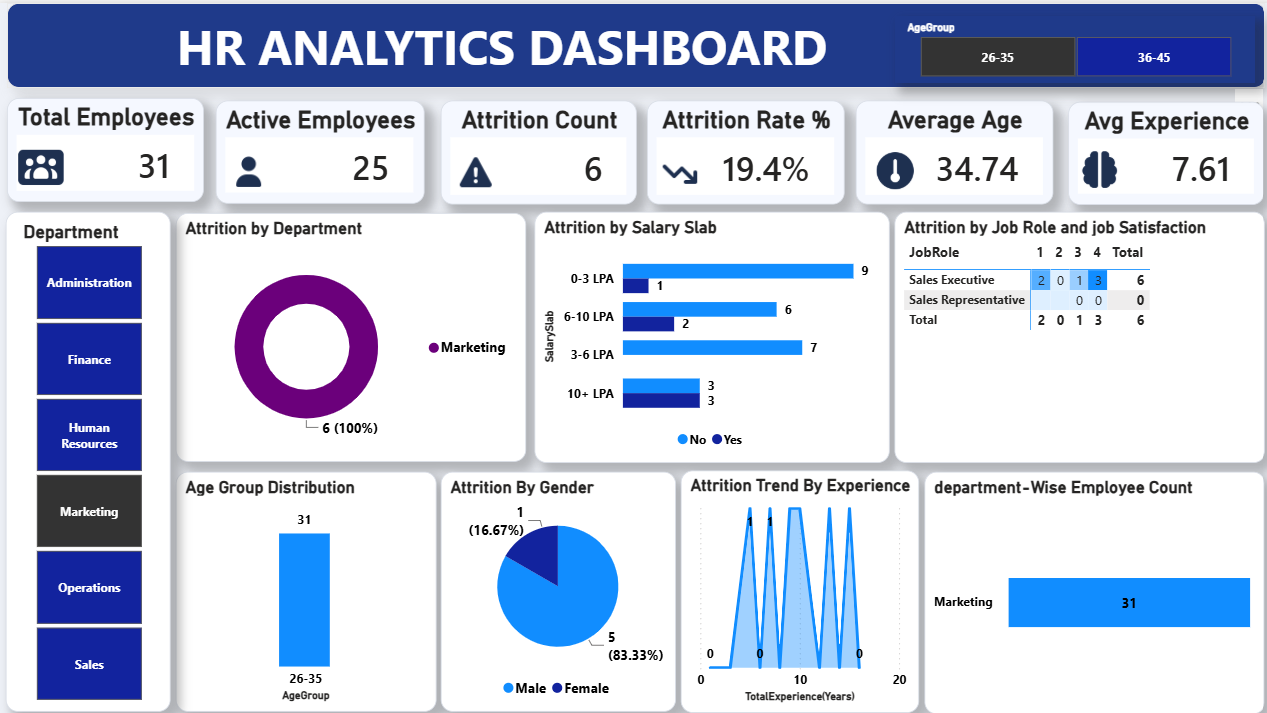

What the dashboard file says about the page in this screenshot:
{"tool":"powerbi","page":{"name":"Page 1","canvas":[1280,720],"ordinal":0},"visuals":[{"type":"textbox","box":[10,0,1259,85],"z":0},{"type":"cardVisual","title":"Total Employees","fields":{"Data":["CountNonNull(HR_Analytics-4.EmpID)"]},"box":[10,95,197,104],"z":1000},{"type":"cardVisual","title":"Active Employees","fields":{"Data":["CountNonNull(HR_Analytics-4.EmployeeCount)"]},"box":[218.2,97.4,208.6,102.9],"z":2000},{"type":"cardVisual","title":"Attrition Count","fields":{"Data":["Sum(HR_Analytics-4.AttritionCount)"]},"box":[443.2,97.4,196.2,104.3],"z":3000},{"type":"cardVisual","title":"Attrition Rate %","fields":{"Data":["HR_Analytics-4.Attrition Rate %"]},"box":[650.4,97.4,197.6,104.3],"z":4000},{"type":"cardVisual","title":"Average Age","fields":{"Data":["Avg(HR_Analytics-4.Age)"]},"box":[859,97.4,197.6,104.3],"z":5000},{"type":"cardVisual","title":"Avg Experience","fields":{"Data":["Avg(HR_Analytics-4.YearsatCompany)"]},"box":[1071.7,98.8,196.2,102.9],"z":6000},{"type":"donutChart","title":"Attrition by Department","fields":{"Category":["HR_Analytics-4.Department"],"Y":["Sum(HR_Analytics-4.AttritionCount)"]},"box":[179,210,350,249],"z":7000},{"type":"clusteredBarChart","title":"Attrition by Salary Slab","fields":{"Category":["HR_Analytics-4.SalarySlab"],"Y":["CountNonNull(HR_Analytics-4.EmpID)"],"Series":["HR_Analytics-4.Attrition"]},"box":[537,209,355,251],"z":8000},{"type":"pivotTable","title":"Attrition by Job Role and job Satisfaction","fields":{"Rows":["HR_Analytics-4.JobRole"],"Values":["Sum(HR_Analytics-4.AttritionCount)"],"Columns":["HR_Analytics-4.JobSatisfaction"]},"box":[898,209,371,251],"z":9000},{"type":"columnChart","title":"Age Group Distribution","fields":{"Y":["Sum(HR_Analytics-4.EmployeeCount)"],"Category":["HR_Analytics-4.AgeGroup"]},"box":[179,469,261,240],"z":10000},{"type":"pieChart","title":"Attrition By Gender","fields":{"Category":["HR_Analytics-4.Gender"],"Y":["Sum(HR_Analytics-4.AttritionCount)"]},"box":[443.8,468.8,235,240],"z":11000},{"type":"areaChart","title":"Attrition Trend By Experience","fields":{"Category":["HR_Analytics-4.TotalExperience(Years)"],"Y2":["Sum(HR_Analytics-4.AttritionCount)"]},"box":[684,468,238.8,242.5],"z":12000},{"type":"funnel","title":"department-Wise Employee Count","fields":{"Category":["HR_Analytics-4.Department"],"Y":["CountNonNull(HR_Analytics-4.EmpID)"]},"box":[928,469,341,242],"z":13000},{"type":"slicer","fields":{"Values":["HR_Analytics-4.Department"]},"box":[9,209,165,500],"z":14000},{"type":"slicer","fields":{"Values":["HR_Analytics-4.AgeGroup"]},"box":[898,12,361,68],"z":15000},{"type":"image","box":[231.2,140,52.5,48.8],"z":16000},{"type":"image","box":[25,127.5,66.2,71.2],"z":17000},{"type":"image","box":[457.5,144,52.5,48.8],"z":18000},{"type":"image","box":[662.5,142.5,52.5,48.8],"z":19000},{"type":"image","box":[875,142.5,52.5,48.8],"z":20000},{"type":"image","box":[1083.8,144,52.5,48.8],"z":21000}]}

Visuals, with their boxes in screenshot pixels (x1, y1, x2, y2), scaled from the page's 1280x720 canvas onto the 1267x713 screenshot:
textbox: <region>10, 0, 1256, 84</region>
"Total Employees" cardVisual: <region>10, 94, 205, 197</region>
"Active Employees" cardVisual: <region>216, 96, 422, 198</region>
"Attrition Count" cardVisual: <region>439, 96, 633, 200</region>
"Attrition Rate %" cardVisual: <region>644, 96, 839, 200</region>
"Average Age" cardVisual: <region>850, 96, 1046, 200</region>
"Avg Experience" cardVisual: <region>1061, 98, 1255, 200</region>
"Attrition by Department" donutChart: <region>177, 208, 524, 455</region>
"Attrition by Salary Slab" clusteredBarChart: <region>532, 207, 883, 456</region>
"Attrition by Job Role and job Satisfaction" pivotTable: <region>889, 207, 1256, 456</region>
"Age Group Distribution" columnChart: <region>177, 464, 436, 702</region>
"Attrition By Gender" pieChart: <region>439, 464, 672, 702</region>
"Attrition Trend By Experience" areaChart: <region>677, 463, 913, 704</region>
"department-Wise Employee Count" funnel: <region>919, 464, 1256, 704</region>
slicer - HR_Analytics-4.Department: <region>9, 207, 172, 702</region>
slicer - HR_Analytics-4.AgeGroup: <region>889, 12, 1246, 79</region>
image: <region>229, 139, 281, 187</region>
image: <region>25, 126, 90, 197</region>
image: <region>453, 143, 505, 191</region>
image: <region>656, 141, 708, 189</region>
image: <region>866, 141, 918, 189</region>
image: <region>1073, 143, 1125, 191</region>
